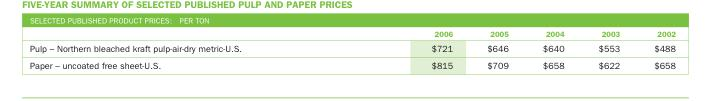table: (28, 28, 674, 70)
table column: (28, 28, 335, 70), (335, 28, 469, 70), (524, 28, 580, 70), (580, 28, 636, 70), (469, 28, 524, 70), (636, 28, 674, 70)
table column header: (28, 28, 674, 40)
table row: (28, 40, 674, 56), (28, 56, 674, 70), (28, 28, 674, 40)
